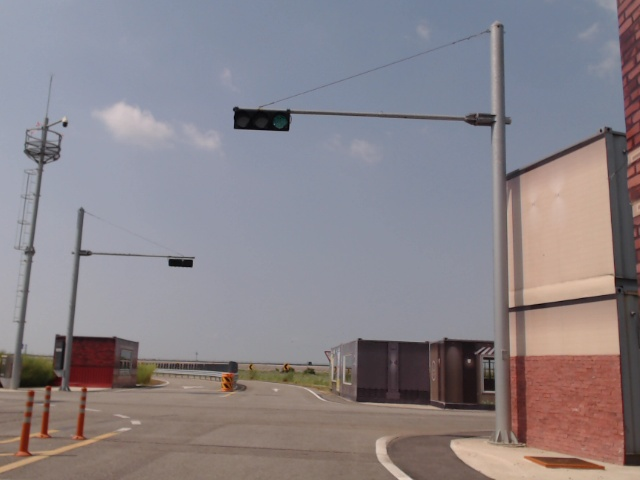green_3: (234, 109, 289, 132)
